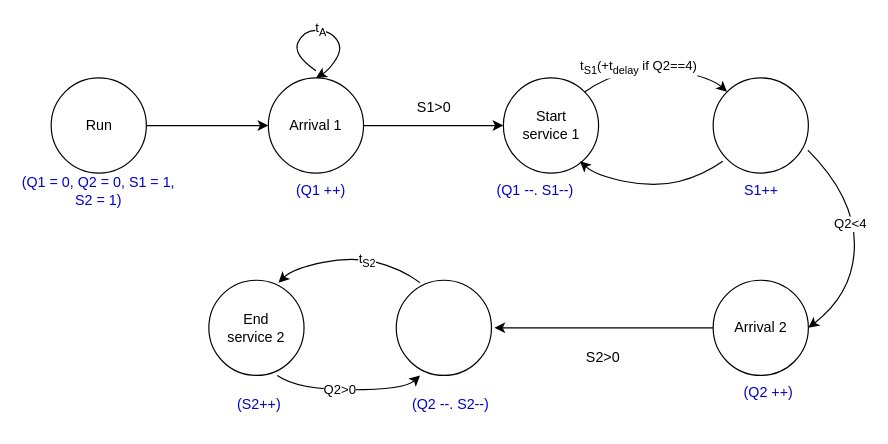
Image size: 888x444. Some labels were removed from this diagram. Each missing label, with the box of its shape:
End service 1: (712, 77, 808, 173)
Start service 2: (395, 279, 491, 375)
